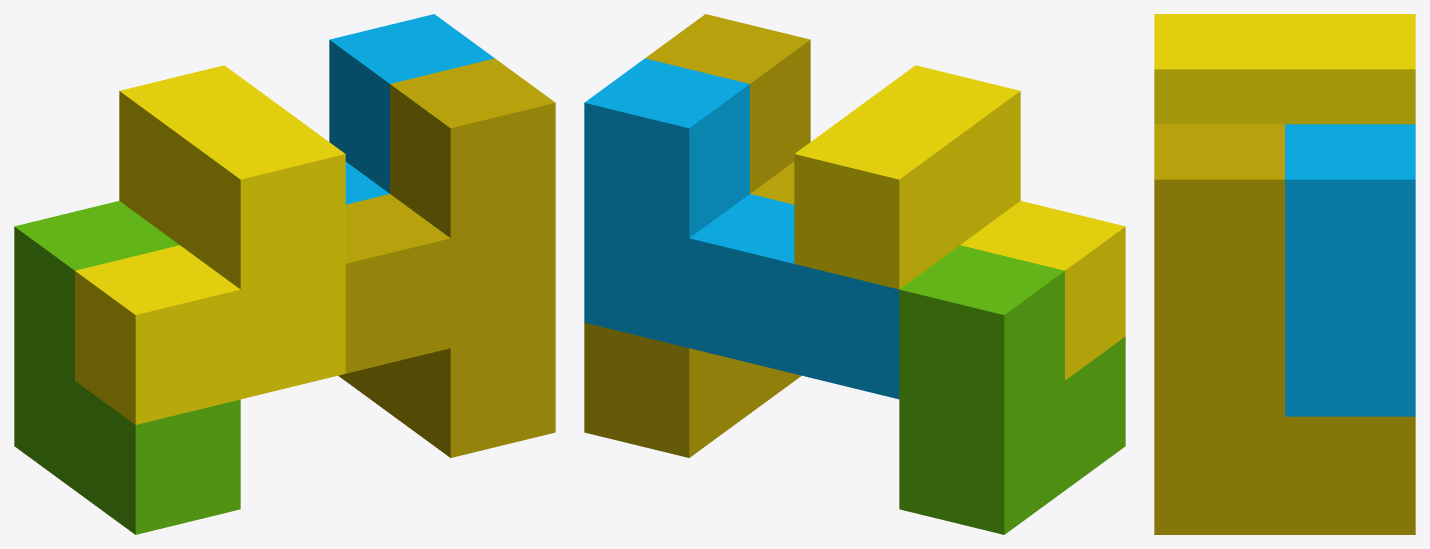
The picture shows the model from 3 angles, left to right: view 1: azimuth 30°, elevation 25°; view 2: azimuth 150°, elevation 25°; view 3: azimuth 270°, elevation 25°; orthographic projection. The views are drawn at different scales.
Parts seen in each view (by area): view 1: mergedBlocks(Clone); view 2: mergedBlocks(Clone); view 3: mergedBlocks(Clone).
Boxes of the visible parts, x1=… form: mergedBlocks(Clone): x1=14, y1=14, x2=555, y2=534; mergedBlocks(Clone): x1=584, y1=14, x2=1125, y2=534; mergedBlocks(Clone): x1=1154, y1=14, x2=1415, y2=534.
Size of the model in its own units: 4 by 3 by 2.
Materials: 4 (4 with a texture image).
